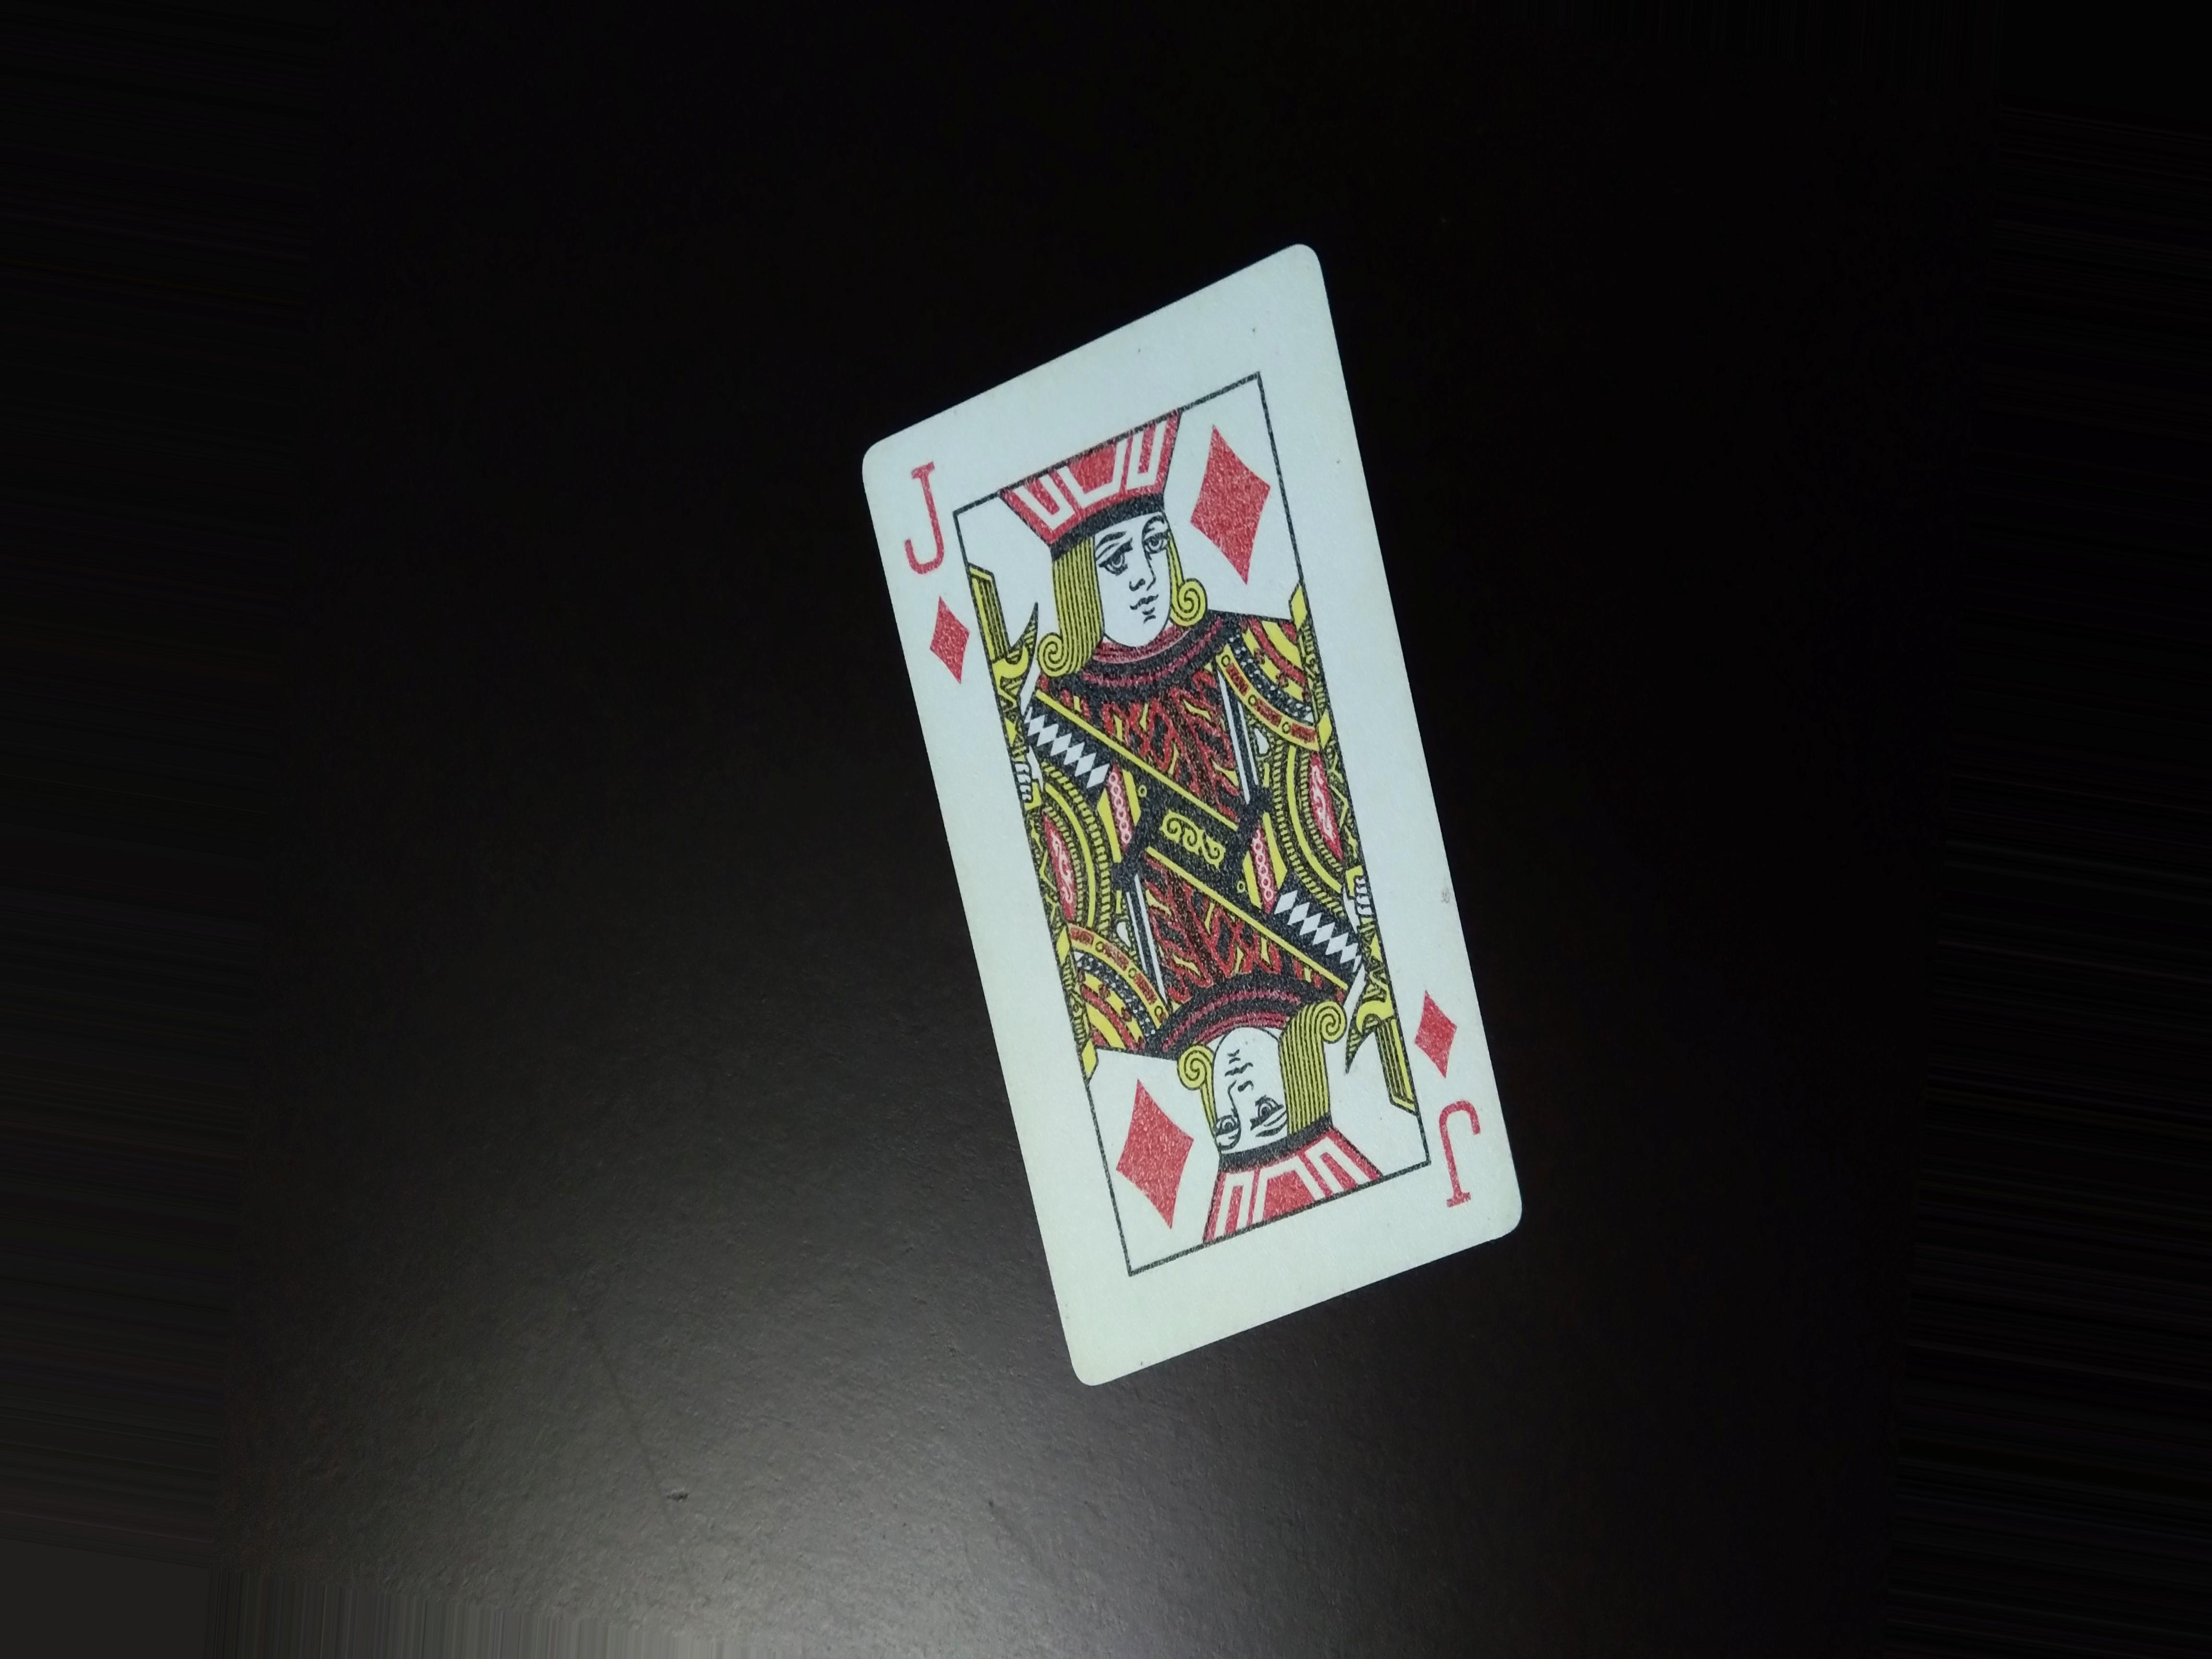JD: (897, 451, 970, 690)
